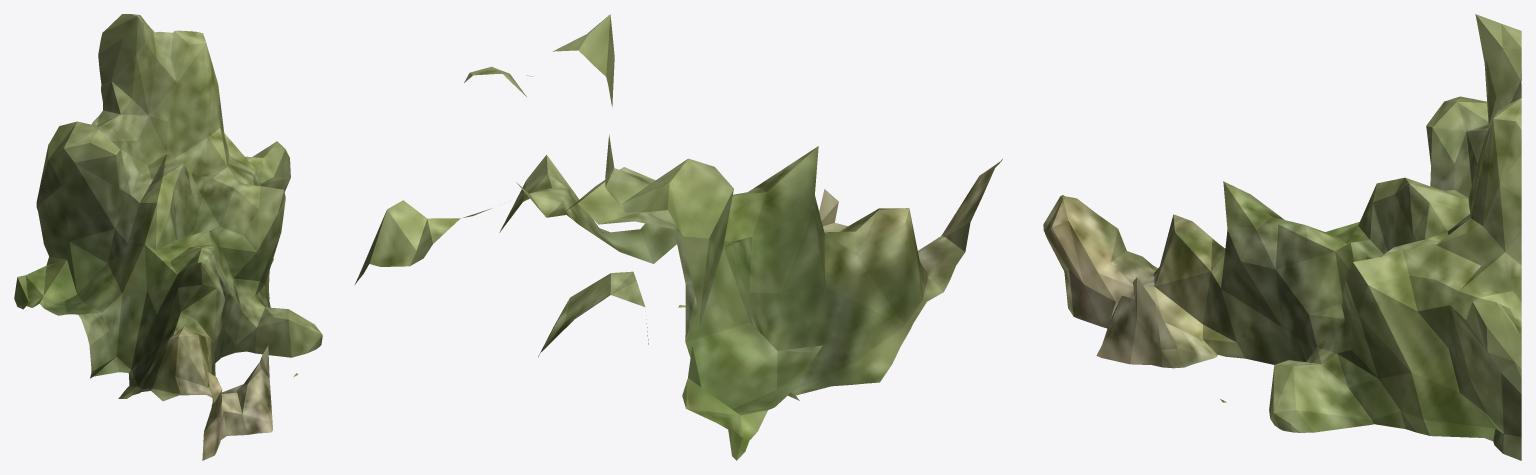
3 renders of one model, left to right at view 1: azimuth 30°, elevation 25°; view 2: azimuth 150°, elevation 25°; view 3: azimuth 270°, elevation 25°, orthographic. The views are drawn at different scales.
Bounding box in the file's own units: 3.12 × 3.3 × 4.02.
Materials: 1 (1 with a texture image).
